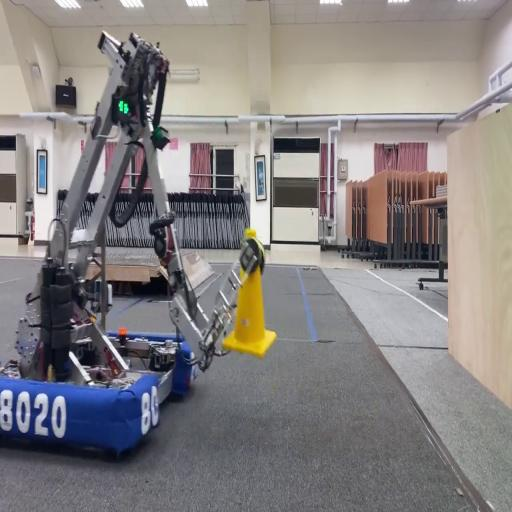robot: (2, 23, 277, 452)
